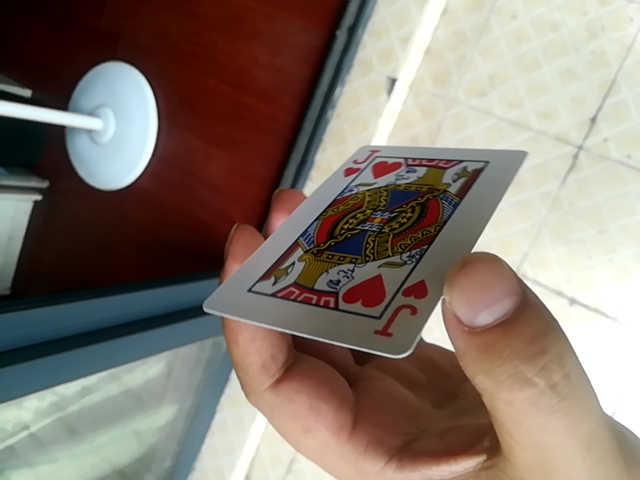hx j: (207, 142, 536, 359)
